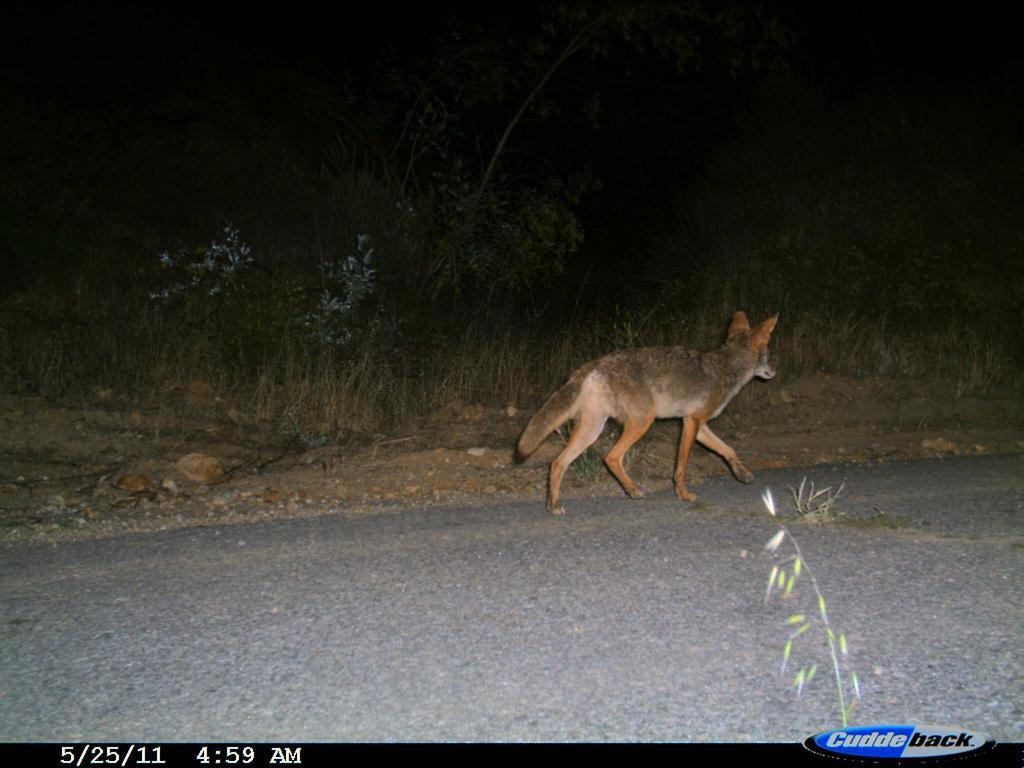coyote: (513, 299, 786, 515)
